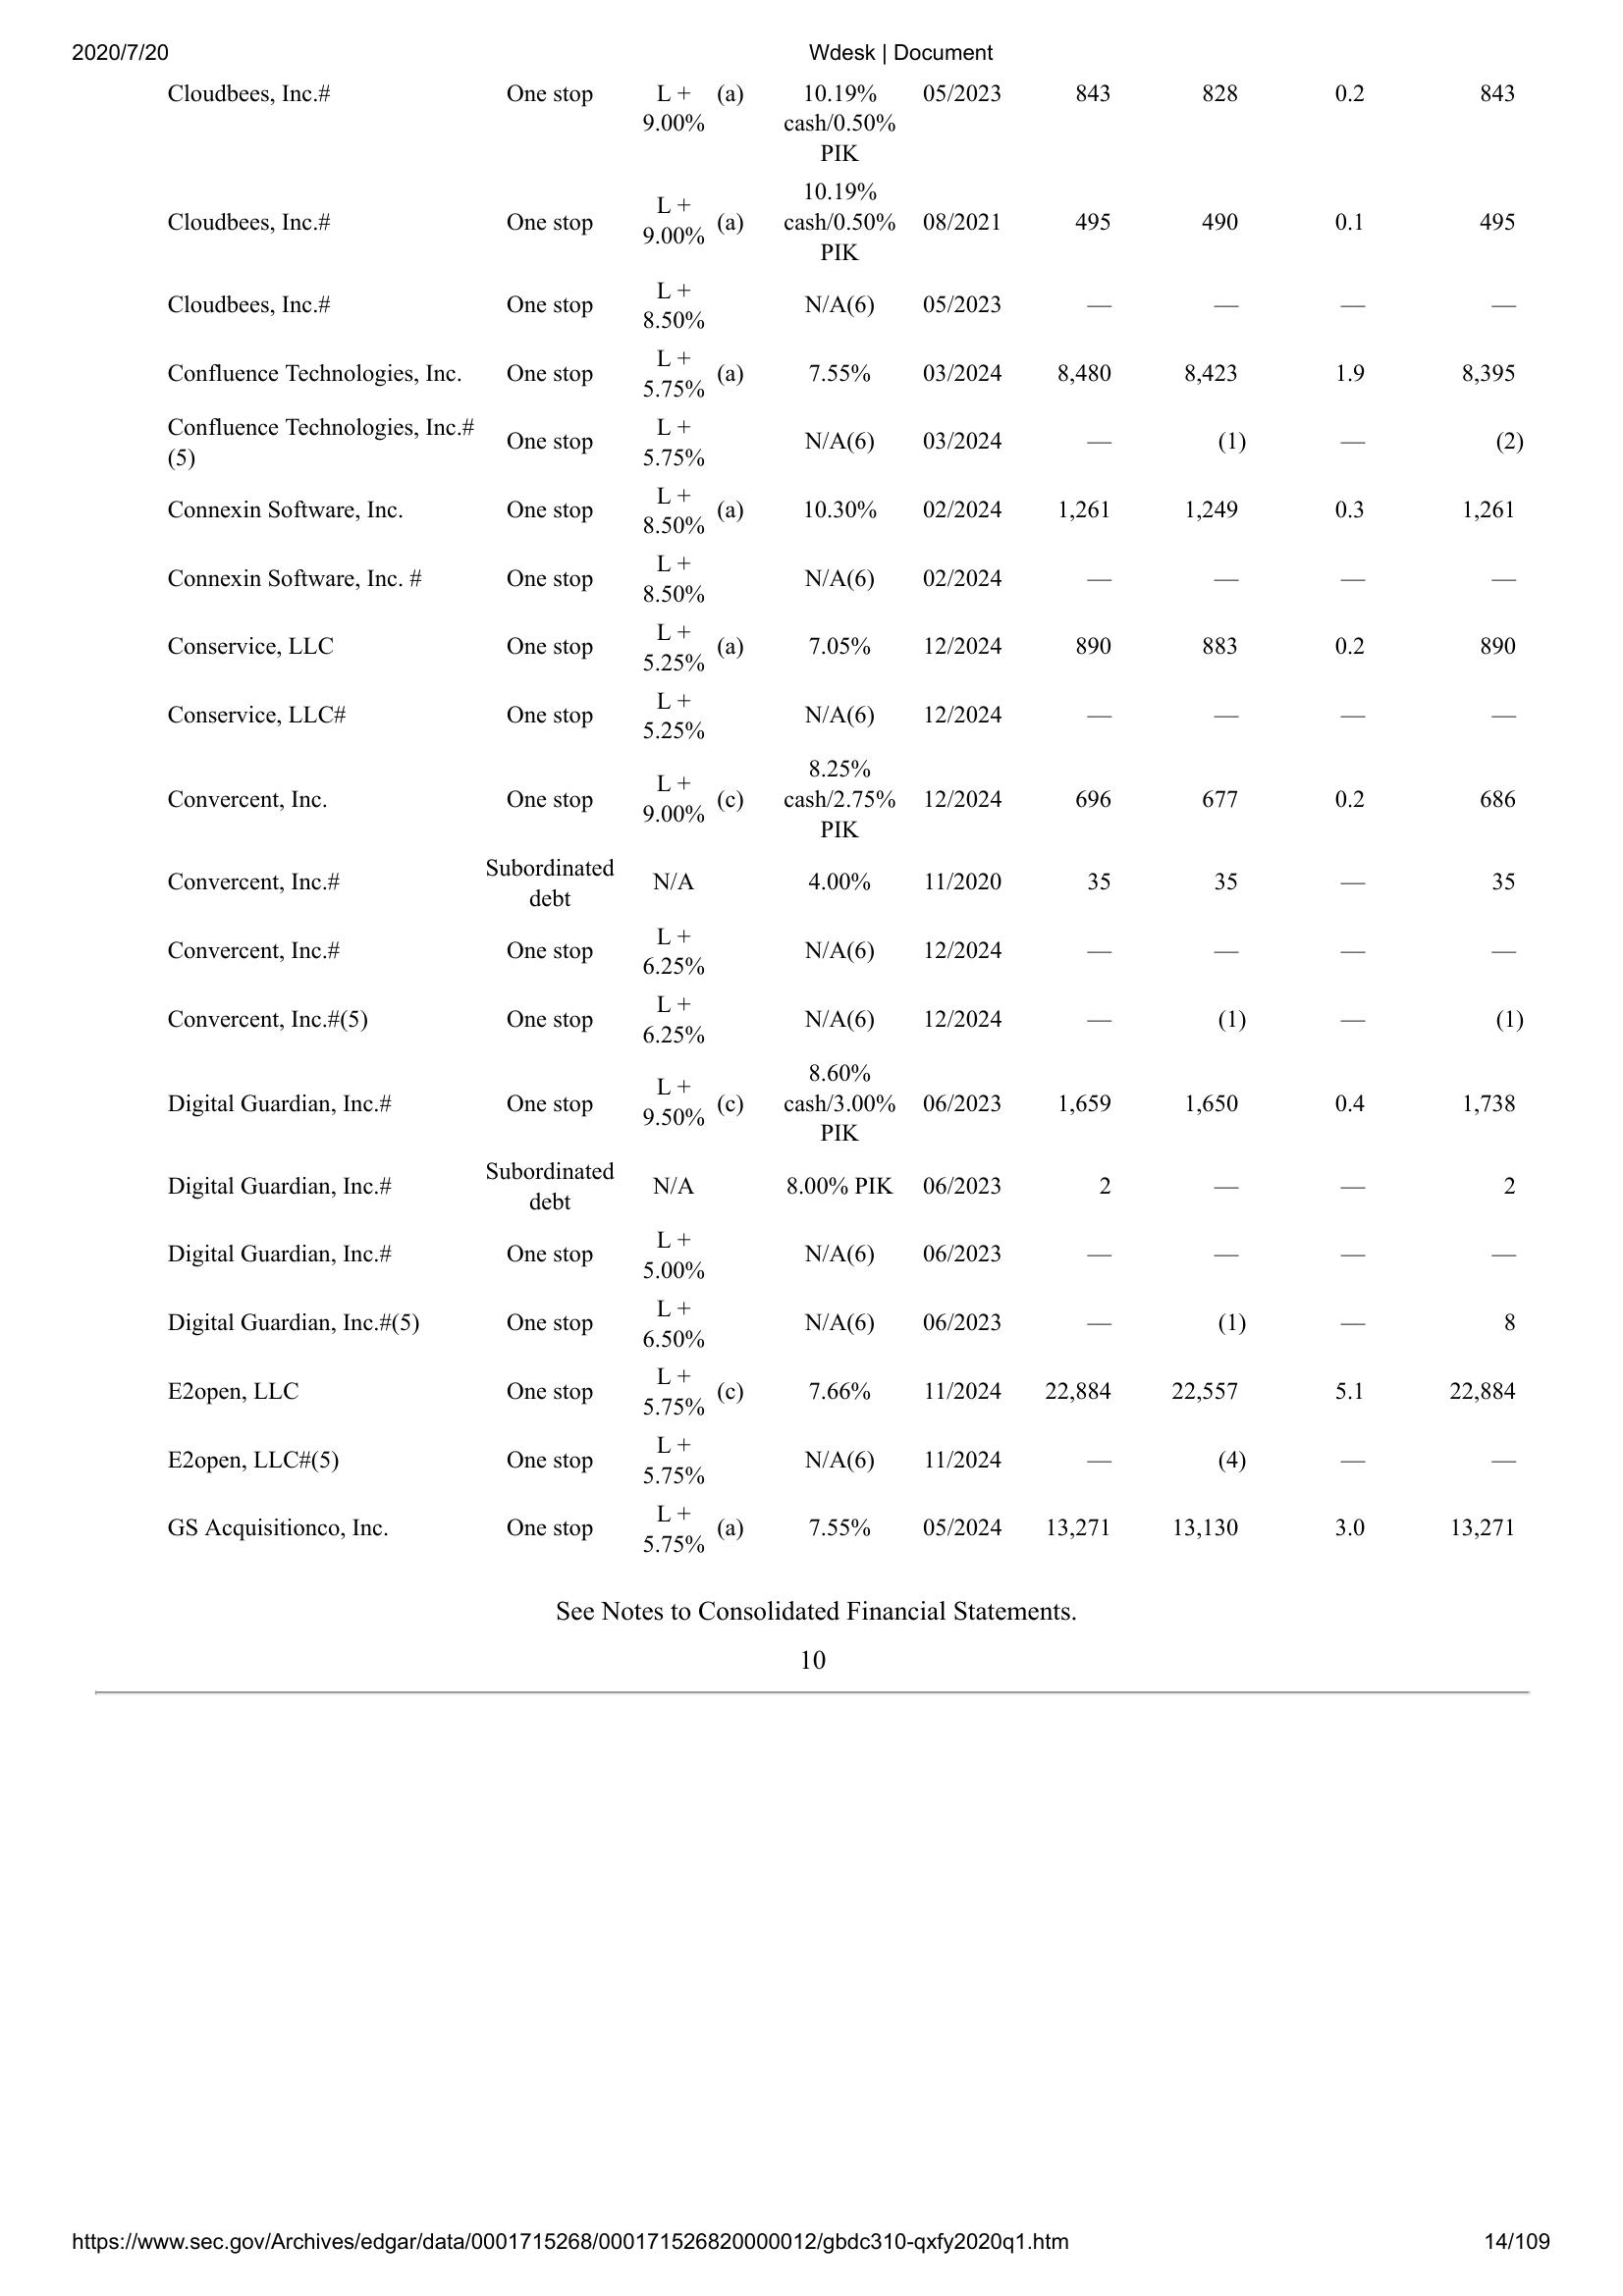table: (148, 32, 1533, 1569)
